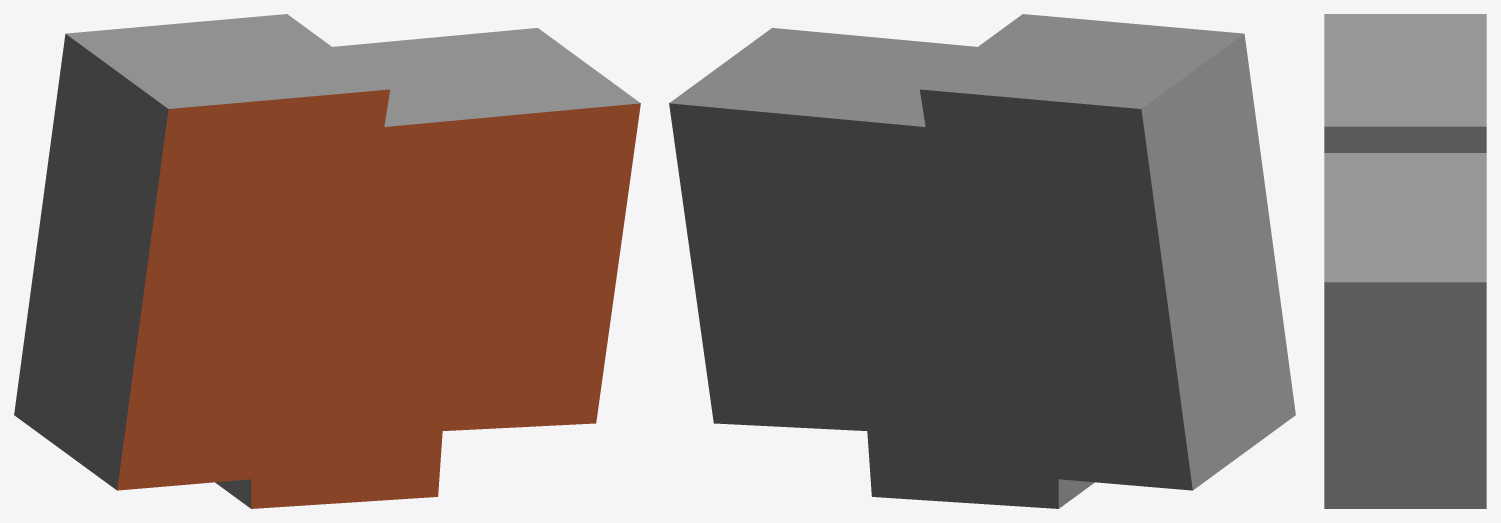
Rendered from construction_1571_assumed_A_Casa_h6m.obj.
3 renders of one model, left to right at view 1: azimuth 30°, elevation 25°; view 2: azimuth 150°, elevation 25°; view 3: azimuth 270°, elevation 25°, orthographic. The views are drawn at different scales.
Parts seen in each view (by area): view 1: construction_1571_assumed_A_Casa; view 2: construction_1571_assumed_A_Casa; view 3: construction_1571_assumed_A_Casa.
Boxes of the visible parts, <box> form: construction_1571_assumed_A_Casa: <box>14,14,640,508</box>; construction_1571_assumed_A_Casa: <box>669,14,1295,508</box>; construction_1571_assumed_A_Casa: <box>1324,14,1486,508</box>.
Bounding box in the file's own units: 17.6 × 14.56 × 6.
